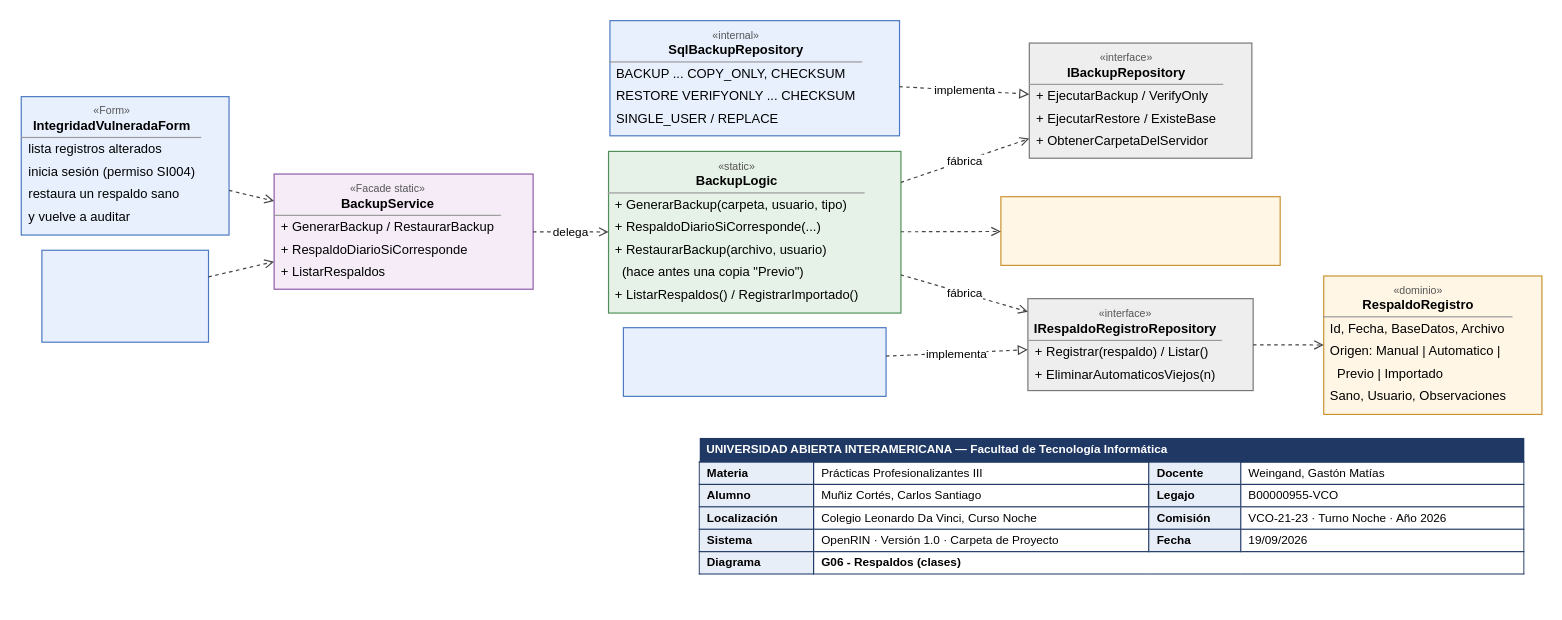
Image size: 1562x620. Some labels were removed from this diagram. The centre of each missing label's shape, as x and y in pixels:
RespaldoException (respaldo no sano o restauración fallida): pixel 1140 230
«internal» SqlRespaldoRegistroRepository tabla Respaldos (OpenRIN_Services): pixel 754 361
«UserControl» RespaldosPanel pestaña Respaldos de Sistema y Bitácora: pixel 125 295
